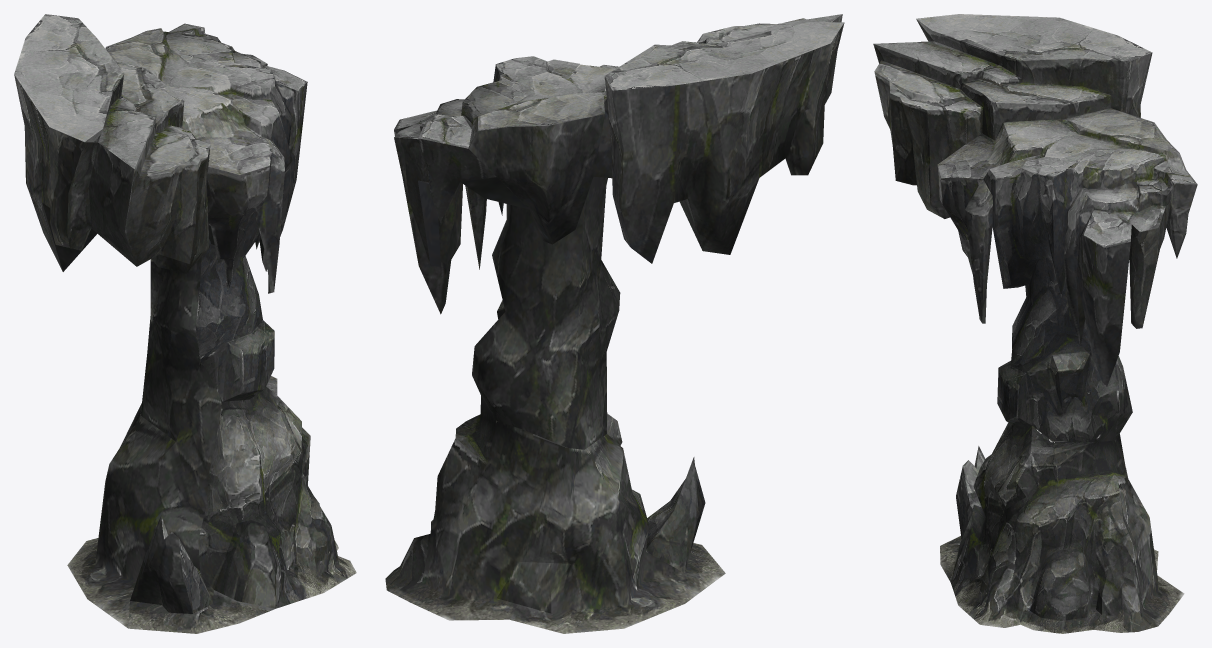
Rendered from dx_shitou_9.FBX.
3 views of the same model, side by side, from view 1: azimuth 30°, elevation 25°; view 2: azimuth 150°, elevation 25°; view 3: azimuth 270°, elevation 25° (orthographic). The views are drawn at different scales.
Visible parts, largest first — view 1: dx_shitou_9; view 2: dx_shitou_9; view 3: dx_shitou_9.
Boxes of the visible parts, x1,y1,x2,y2 form: dx_shitou_9: (14,14,356,633); dx_shitou_9: (385,14,844,633); dx_shitou_9: (873,14,1197,633).
Bounding box in the file's own units: 419 × 636 × 390.
